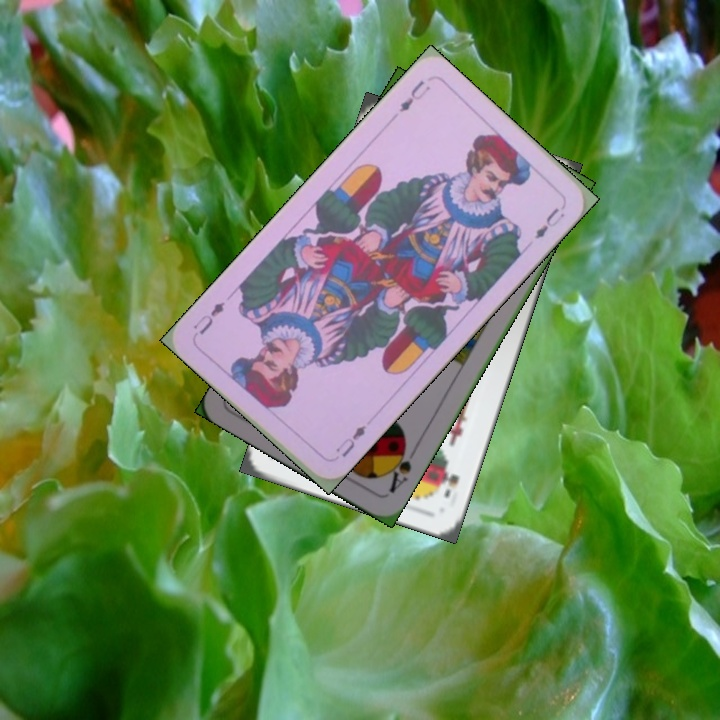EU: (331, 421, 369, 460), (395, 76, 433, 115)
SA: (381, 437, 420, 496)
SK: (439, 468, 462, 501)
